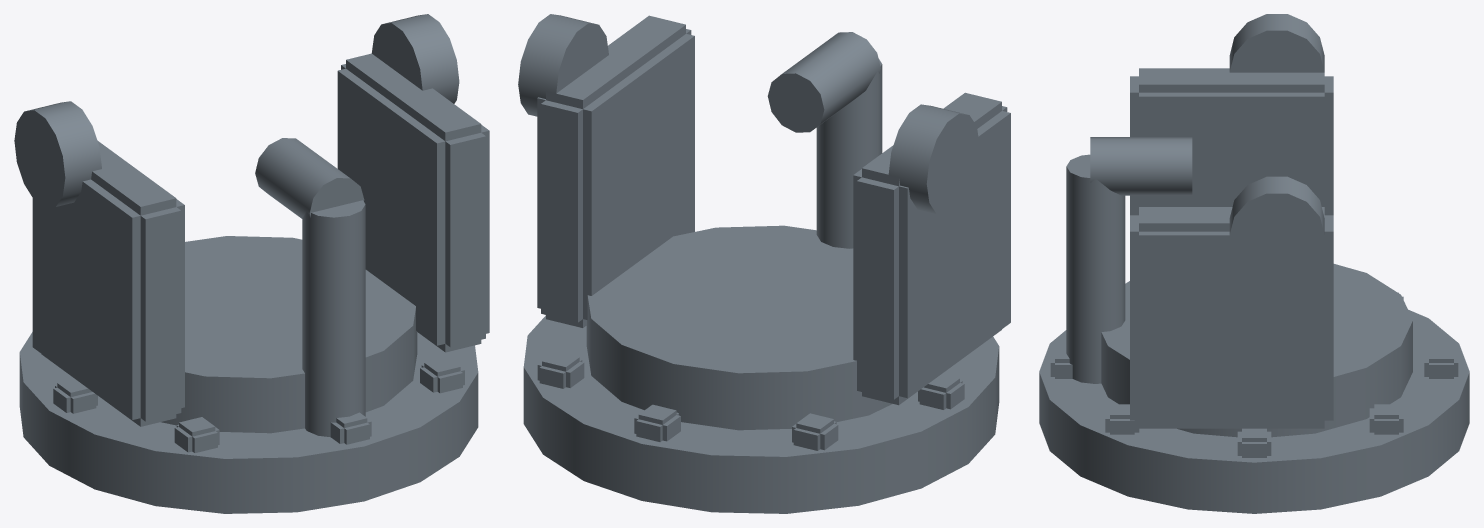
File: coilgun_mount.glb
3 renders of one model, left to right at view 1: azimuth 30°, elevation 25°; view 2: azimuth 150°, elevation 25°; view 3: azimuth 270°, elevation 25°, orthographic. The views are drawn at different scales.
Visible parts, largest first — view 1: coilgun_mount; view 2: coilgun_mount; view 3: coilgun_mount.
Boxes of the visible parts, x1=… form: coilgun_mount: x1=14, y1=14, x2=489, y2=513; coilgun_mount: x1=518, y1=14, x2=1010, y2=513; coilgun_mount: x1=1039, y1=14, x2=1469, y2=513.
Bounding box in the file's own units: 0.38 × 0.3109 × 0.38.
